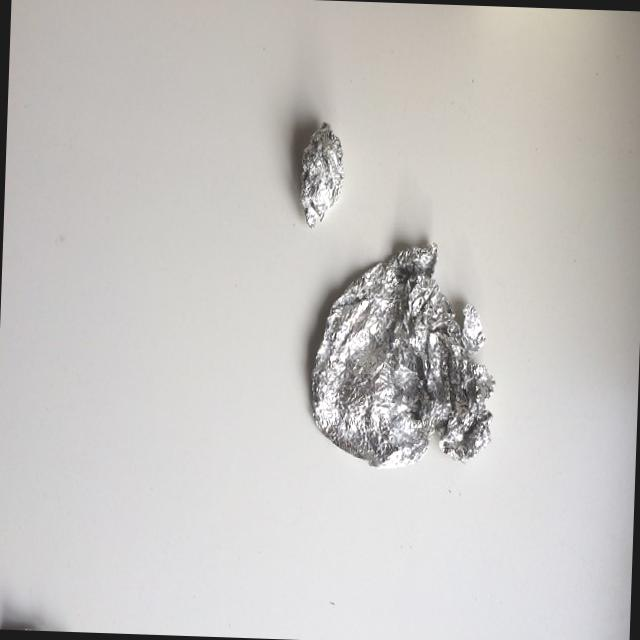Recycle: (302, 237, 500, 471), (296, 120, 346, 232)
